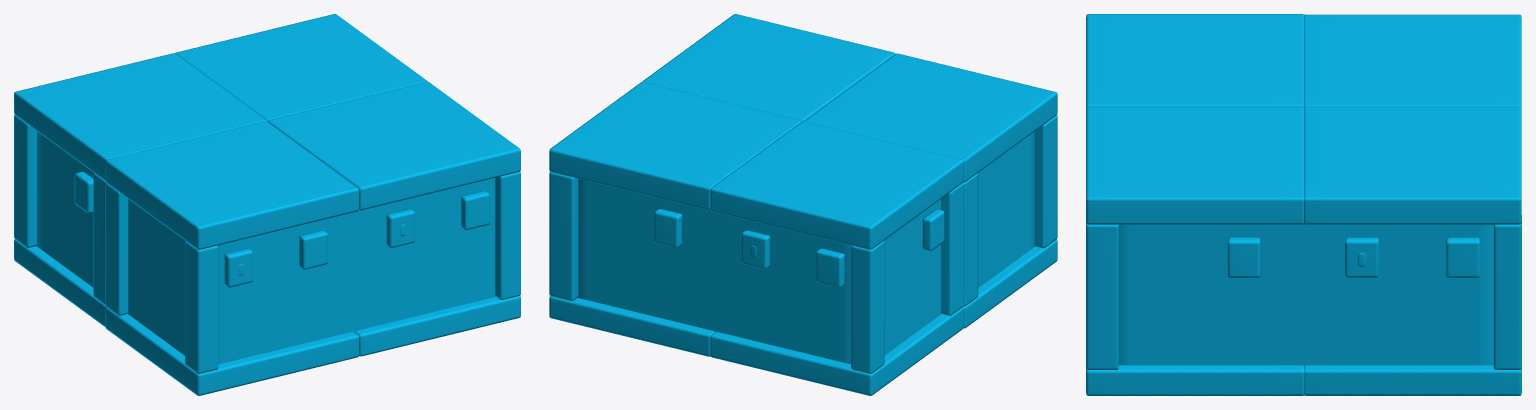
The model's file is SM_Clay_Body_02.fbx.
3 renders of one model, left to right at view 1: azimuth 30°, elevation 25°; view 2: azimuth 150°, elevation 25°; view 3: azimuth 270°, elevation 25°, orthographic. The views are drawn at different scales.
Parts seen in each view (by area): view 1: SM_Clay_Body_02; view 2: SM_Clay_Body_02; view 3: SM_Clay_Body_02.
Part boxes in pixels (bbox=[...]): SM_Clay_Body_02: bbox=[14, 14, 520, 395]; SM_Clay_Body_02: bbox=[549, 14, 1057, 395]; SM_Clay_Body_02: bbox=[1086, 14, 1521, 395].
Bounding box in the file's own units: 2 × 0.9989 × 1.99.
